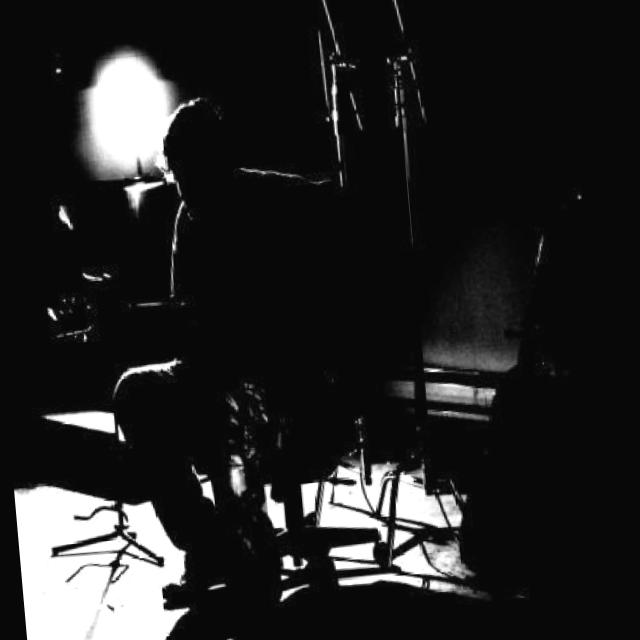Person: (85, 80, 363, 628)
